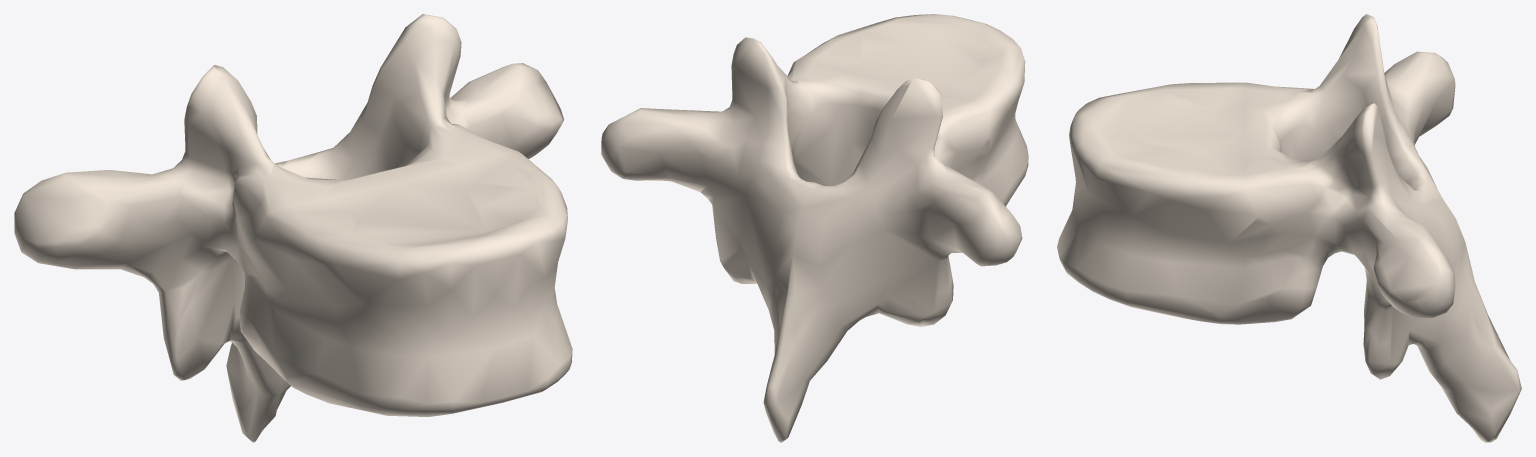
3 renders of one model, left to right at view 1: azimuth 30°, elevation 25°; view 2: azimuth 150°, elevation 25°; view 3: azimuth 270°, elevation 25°, orthographic. The views are drawn at different scales.
Visible parts, largest first — view 1: Thoracic vertebrae (T7); view 2: Thoracic vertebrae (T7); view 3: Thoracic vertebrae (T7).
Part boxes in pixels (<box>): Thoracic vertebrae (T7): <box>14,14,572,442</box>; Thoracic vertebrae (T7): <box>601,14,1028,442</box>; Thoracic vertebrae (T7): <box>1057,14,1521,442</box>.
Size of the model in its own units: 0.0745 by 0.0598 by 0.0658.
